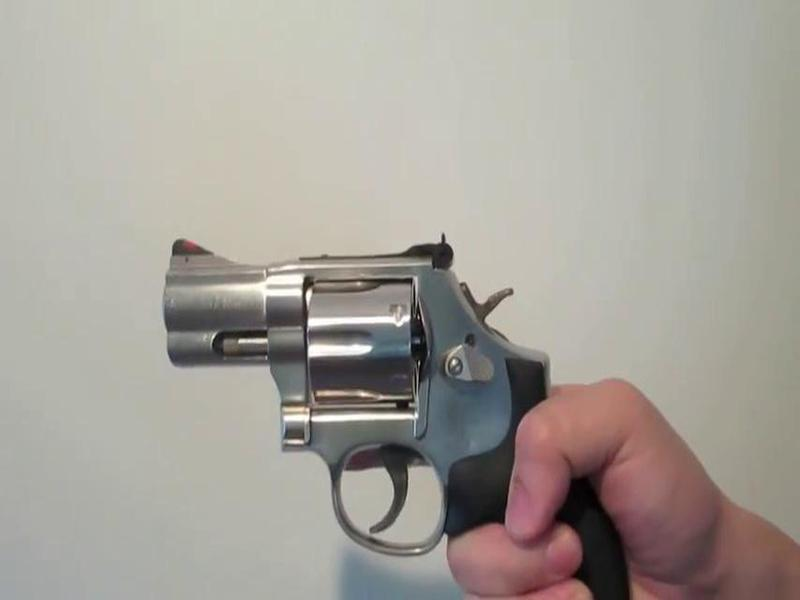Revolver: (95, 224, 617, 594)
